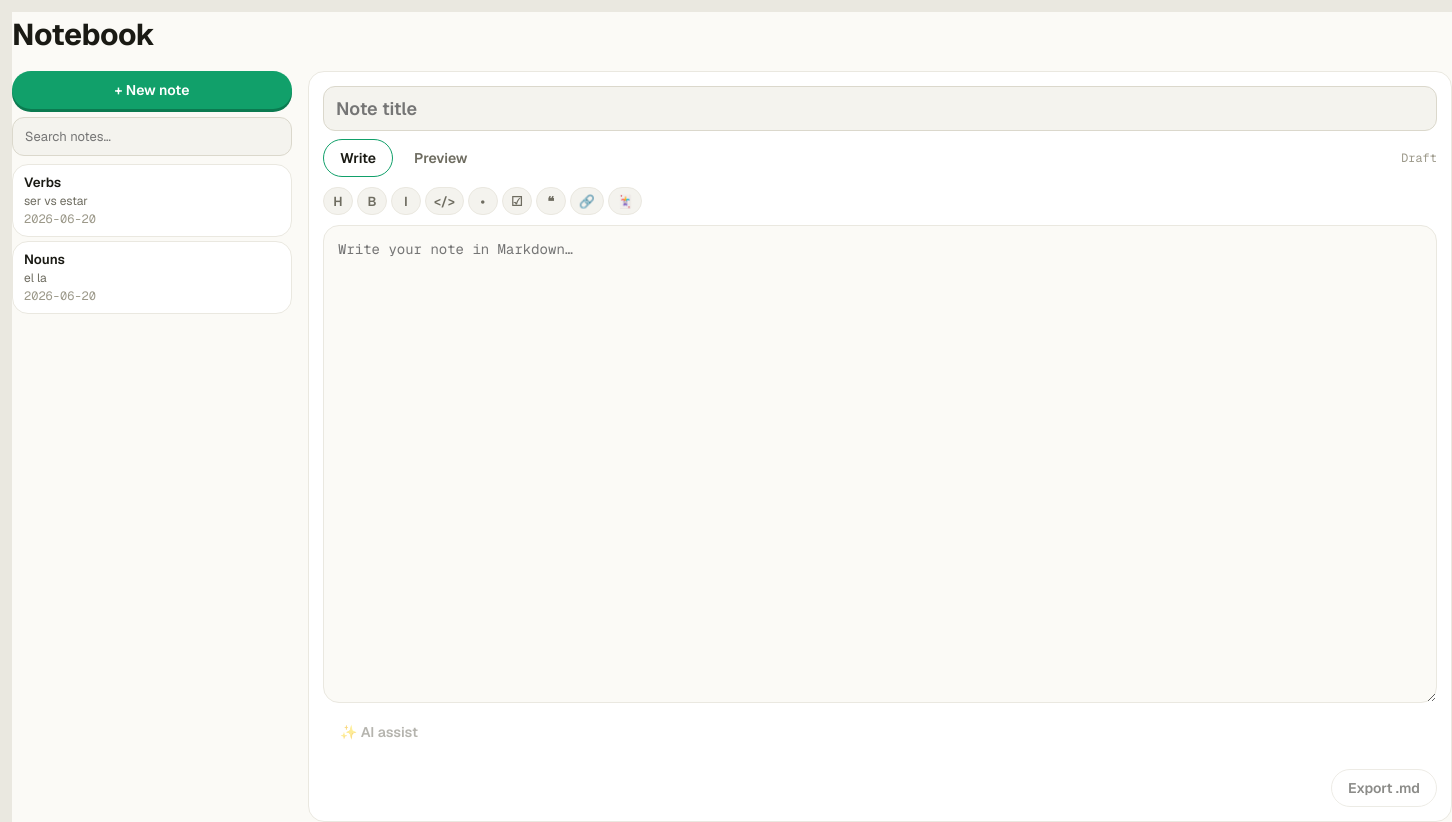
Test: Notebook › filters the list with the search box
Expected: the text "Verbs" is shown, [24,174,61,191]
In the search field with test id "notebook-search": (152, 136) [12,117,292,156], type "nouns"
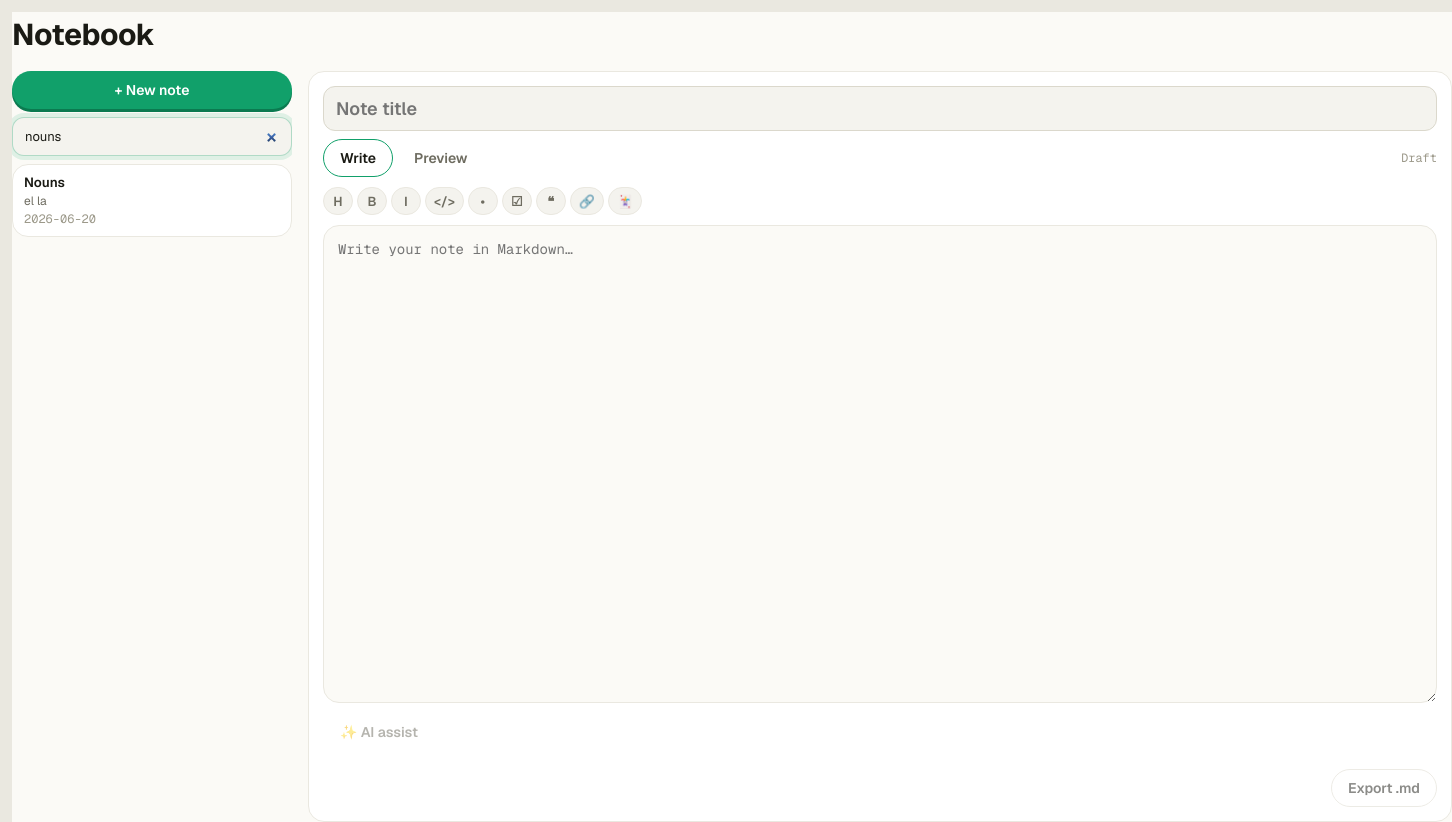
Expected: the text "Nouns" is shown, [24,174,65,191]
Expected: the button "Verbs" is gone
